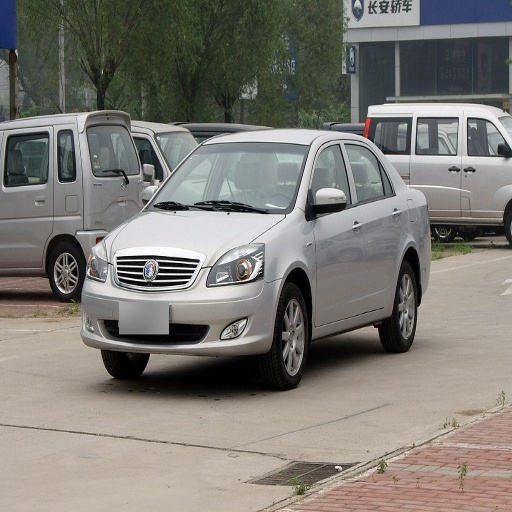front_bumper: (83, 252, 281, 356)
front_glass: (149, 146, 309, 213)
front_left_door: (307, 140, 365, 323)
